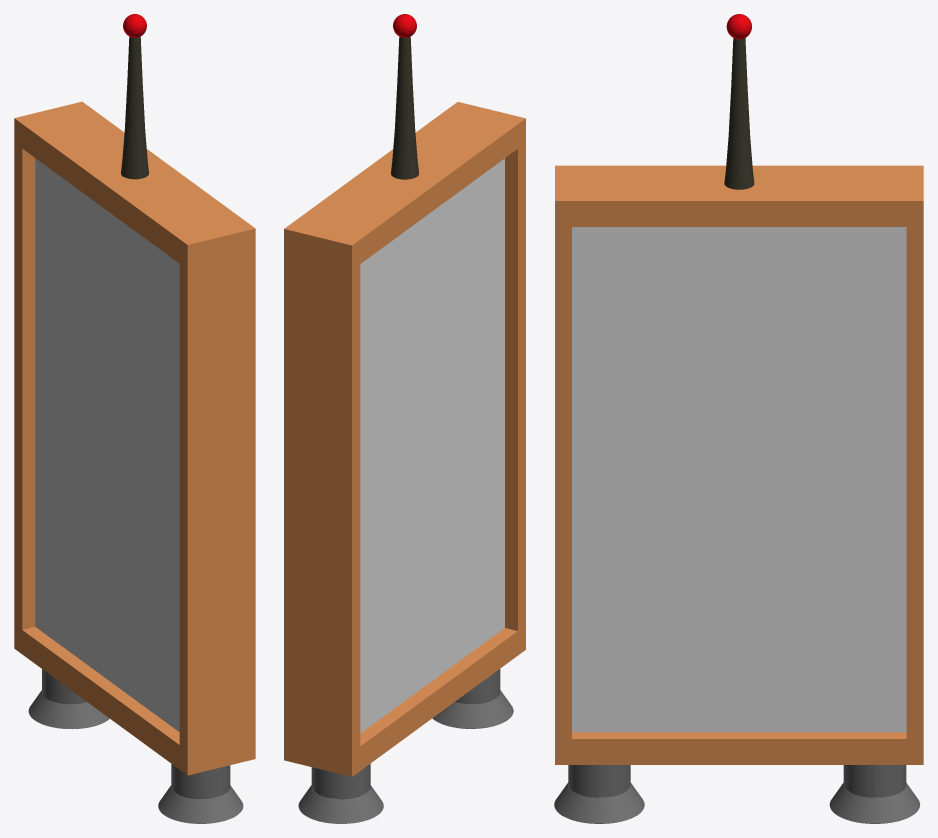
File: addwall1.fbx
The picture shows the model from 3 angles, left to right: view 1: azimuth 30°, elevation 25°; view 2: azimuth 150°, elevation 25°; view 3: azimuth 270°, elevation 25°; orthographic projection. The views are drawn at different scales.
Parts seen in each view (by area): view 1: Cube; view 2: Cube; view 3: Cube.
Boxes of the visible parts, x1,y1,x2,y2 form: Cube: [14, 14, 255, 823]; Cube: [284, 14, 525, 823]; Cube: [554, 14, 923, 823].
Bounding box in the file's own units: 49.1 × 472 × 200.
